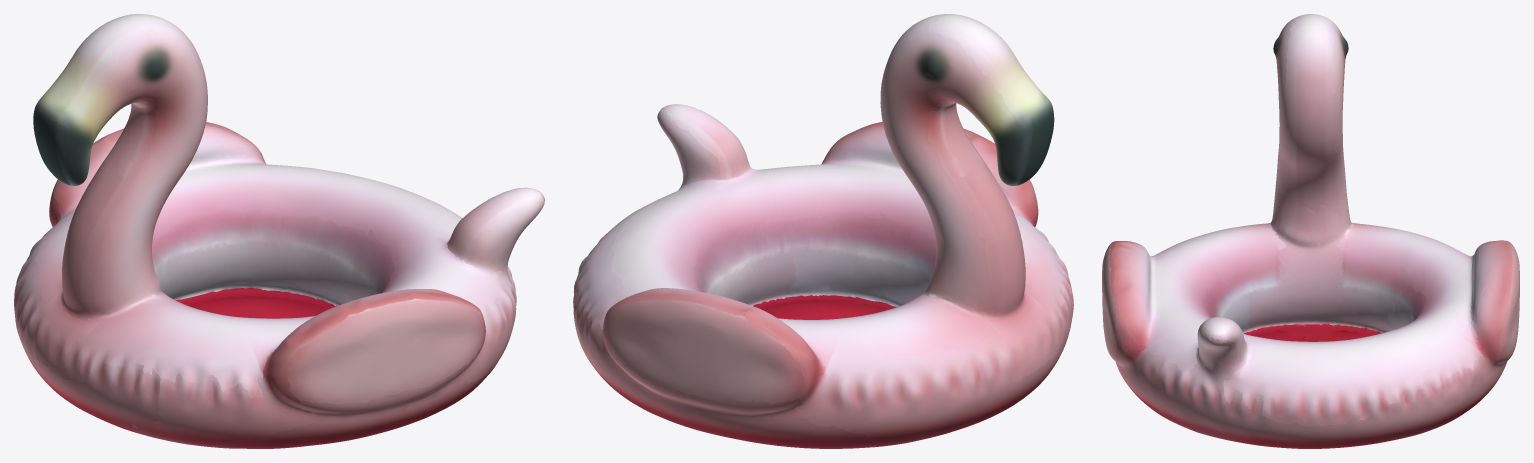
File: flamingo.glb
3 views of the same model, side by side, from view 1: azimuth 30°, elevation 25°; view 2: azimuth 150°, elevation 25°; view 3: azimuth 270°, elevation 25° (orthographic). The views are drawn at different scales.
Parts seen in each view (by area): view 1: tmps6216ruy.ply; view 2: tmps6216ruy.ply; view 3: tmps6216ruy.ply.
Boxes of the visible parts, bbox=[...] form: tmps6216ruy.ply: bbox=[14, 14, 544, 448]; tmps6216ruy.ply: bbox=[573, 14, 1073, 448]; tmps6216ruy.ply: bbox=[1102, 14, 1519, 448].
Size of the model in its own units: 0.9869 by 0.8066 by 0.9878.
1 material, 1 textured.
